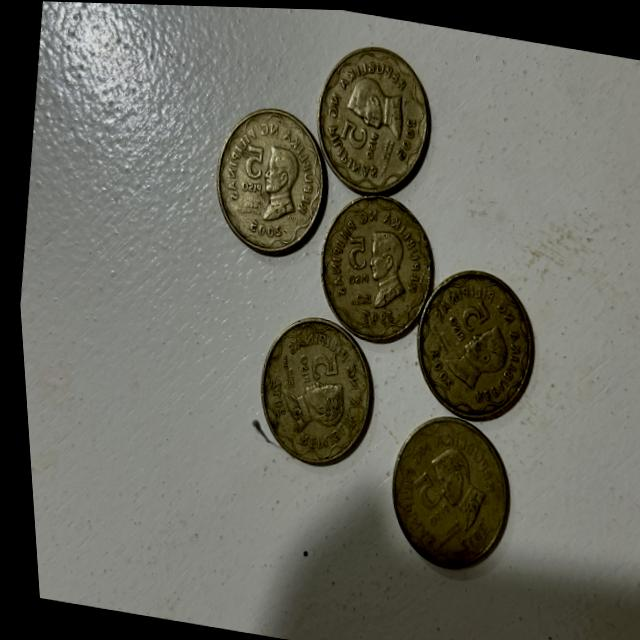5_Old_Front: (391, 459, 453, 535), (224, 123, 274, 204), (334, 212, 377, 293), (432, 292, 495, 346), (283, 341, 339, 391), (331, 111, 382, 163)
